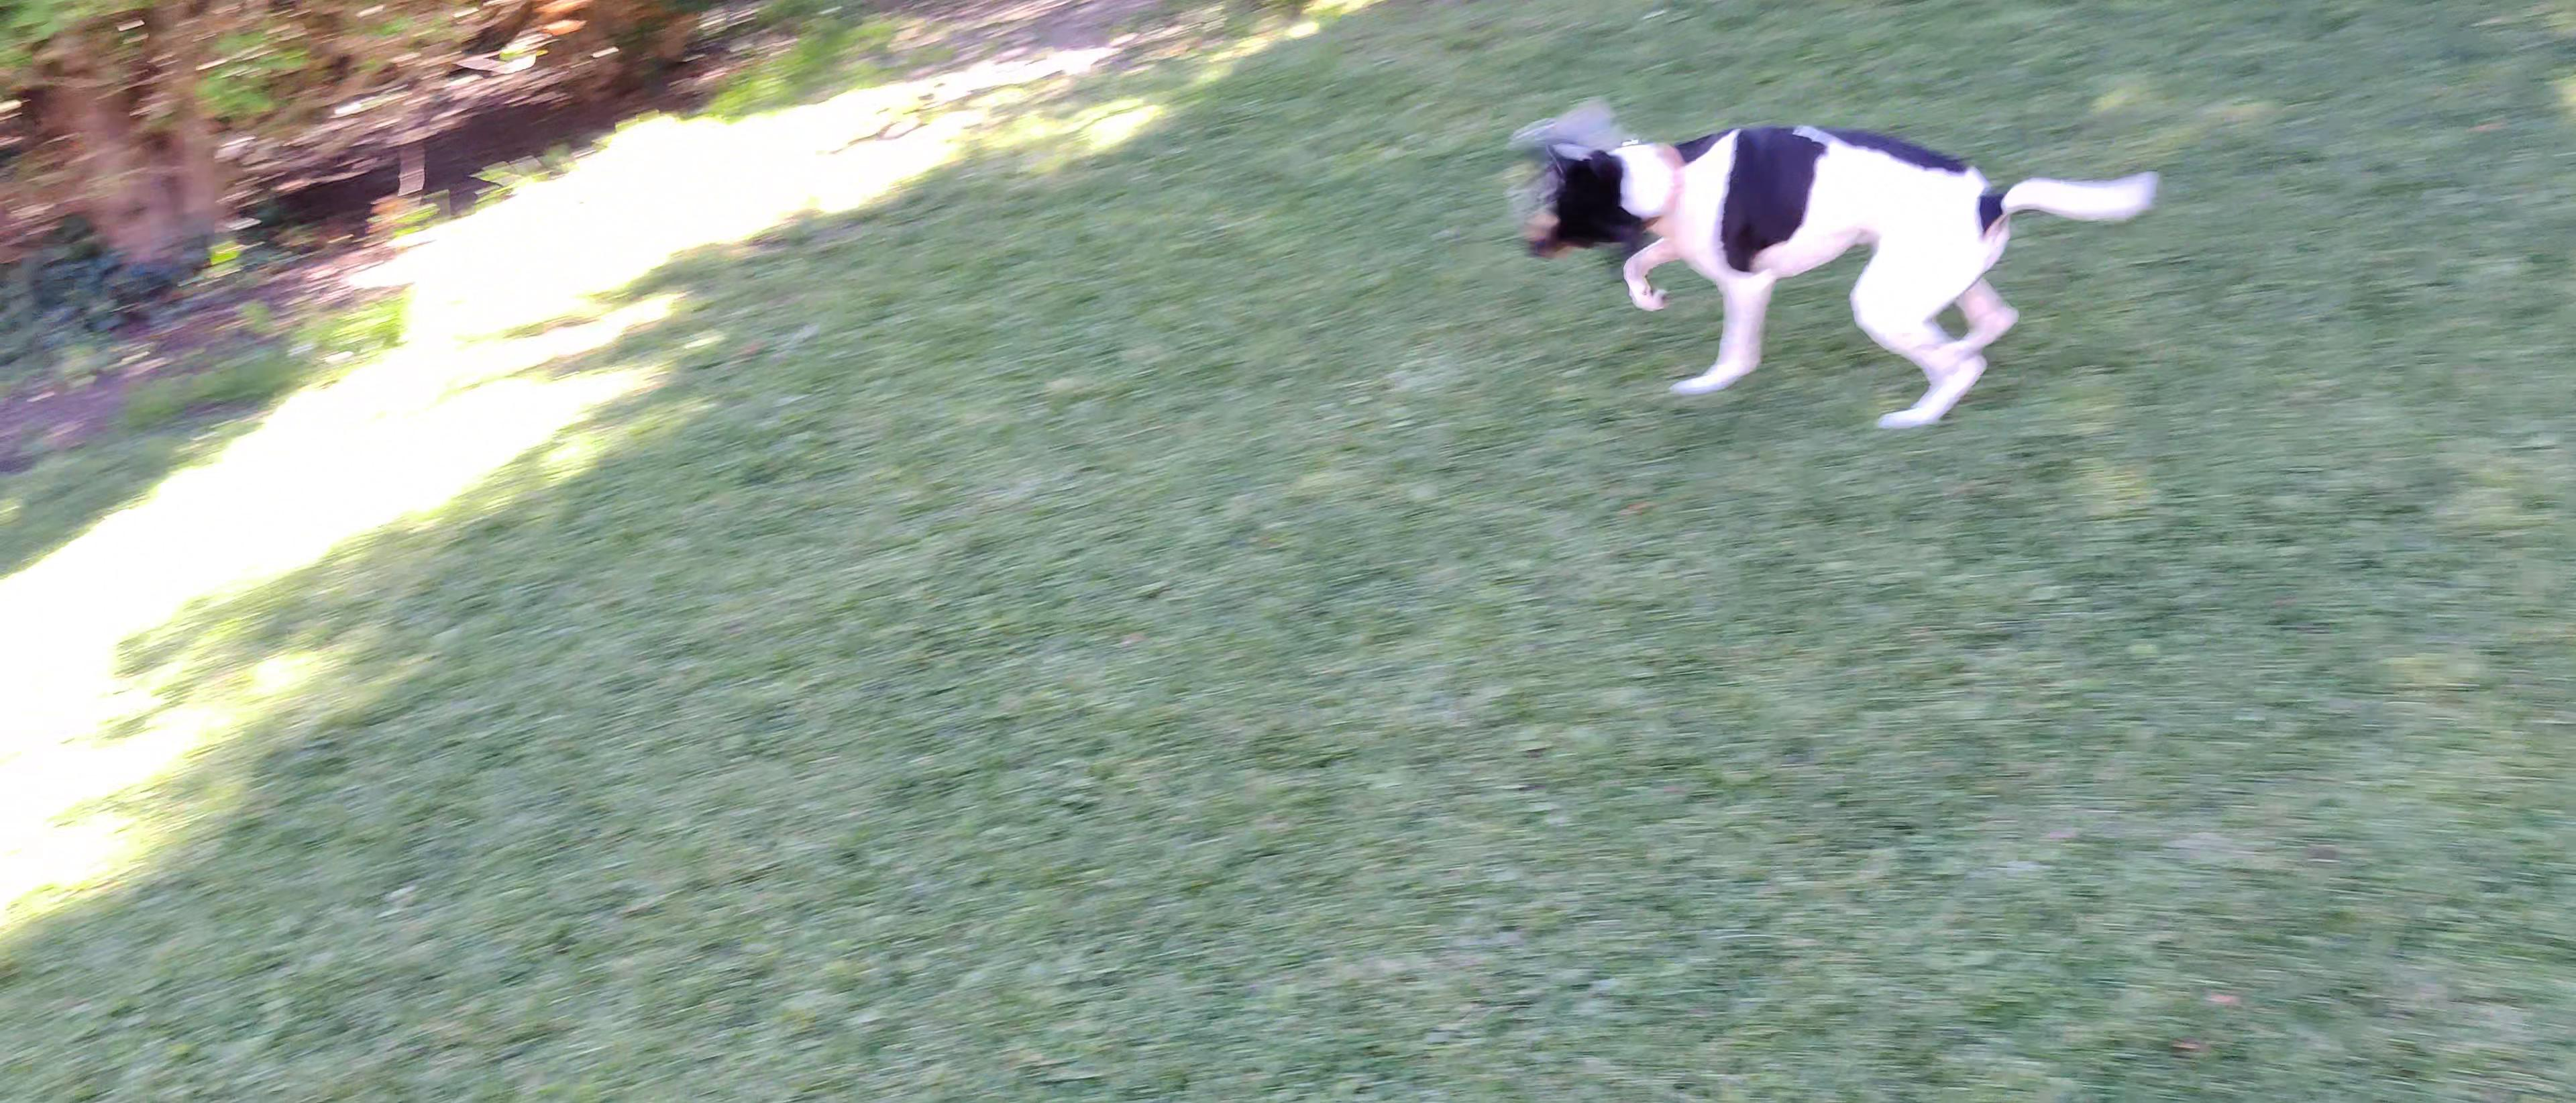Dog: (1493, 72, 2177, 459)
